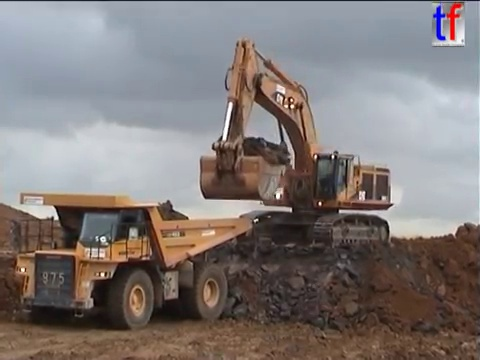excavator: (197, 35, 398, 255)
truck: (8, 190, 255, 332)
